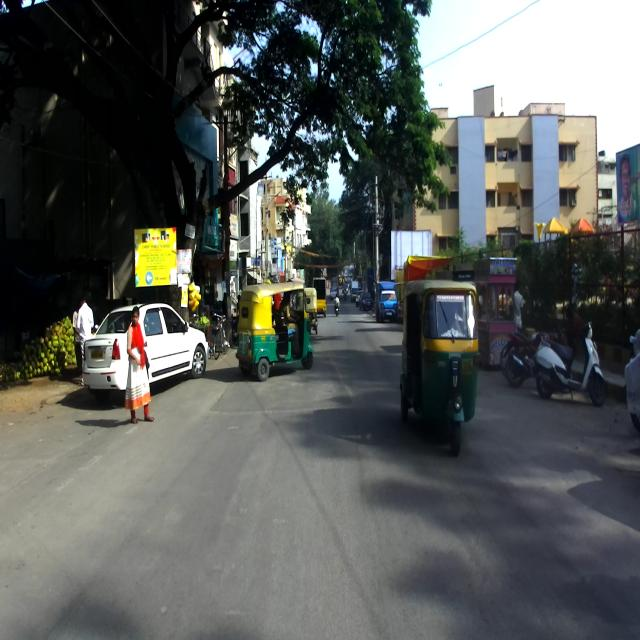auto ahead at: (402, 277, 483, 455), (237, 277, 319, 385)
motorcycle ahead at: (534, 313, 610, 414)
person ahead at: (122, 307, 154, 428)
